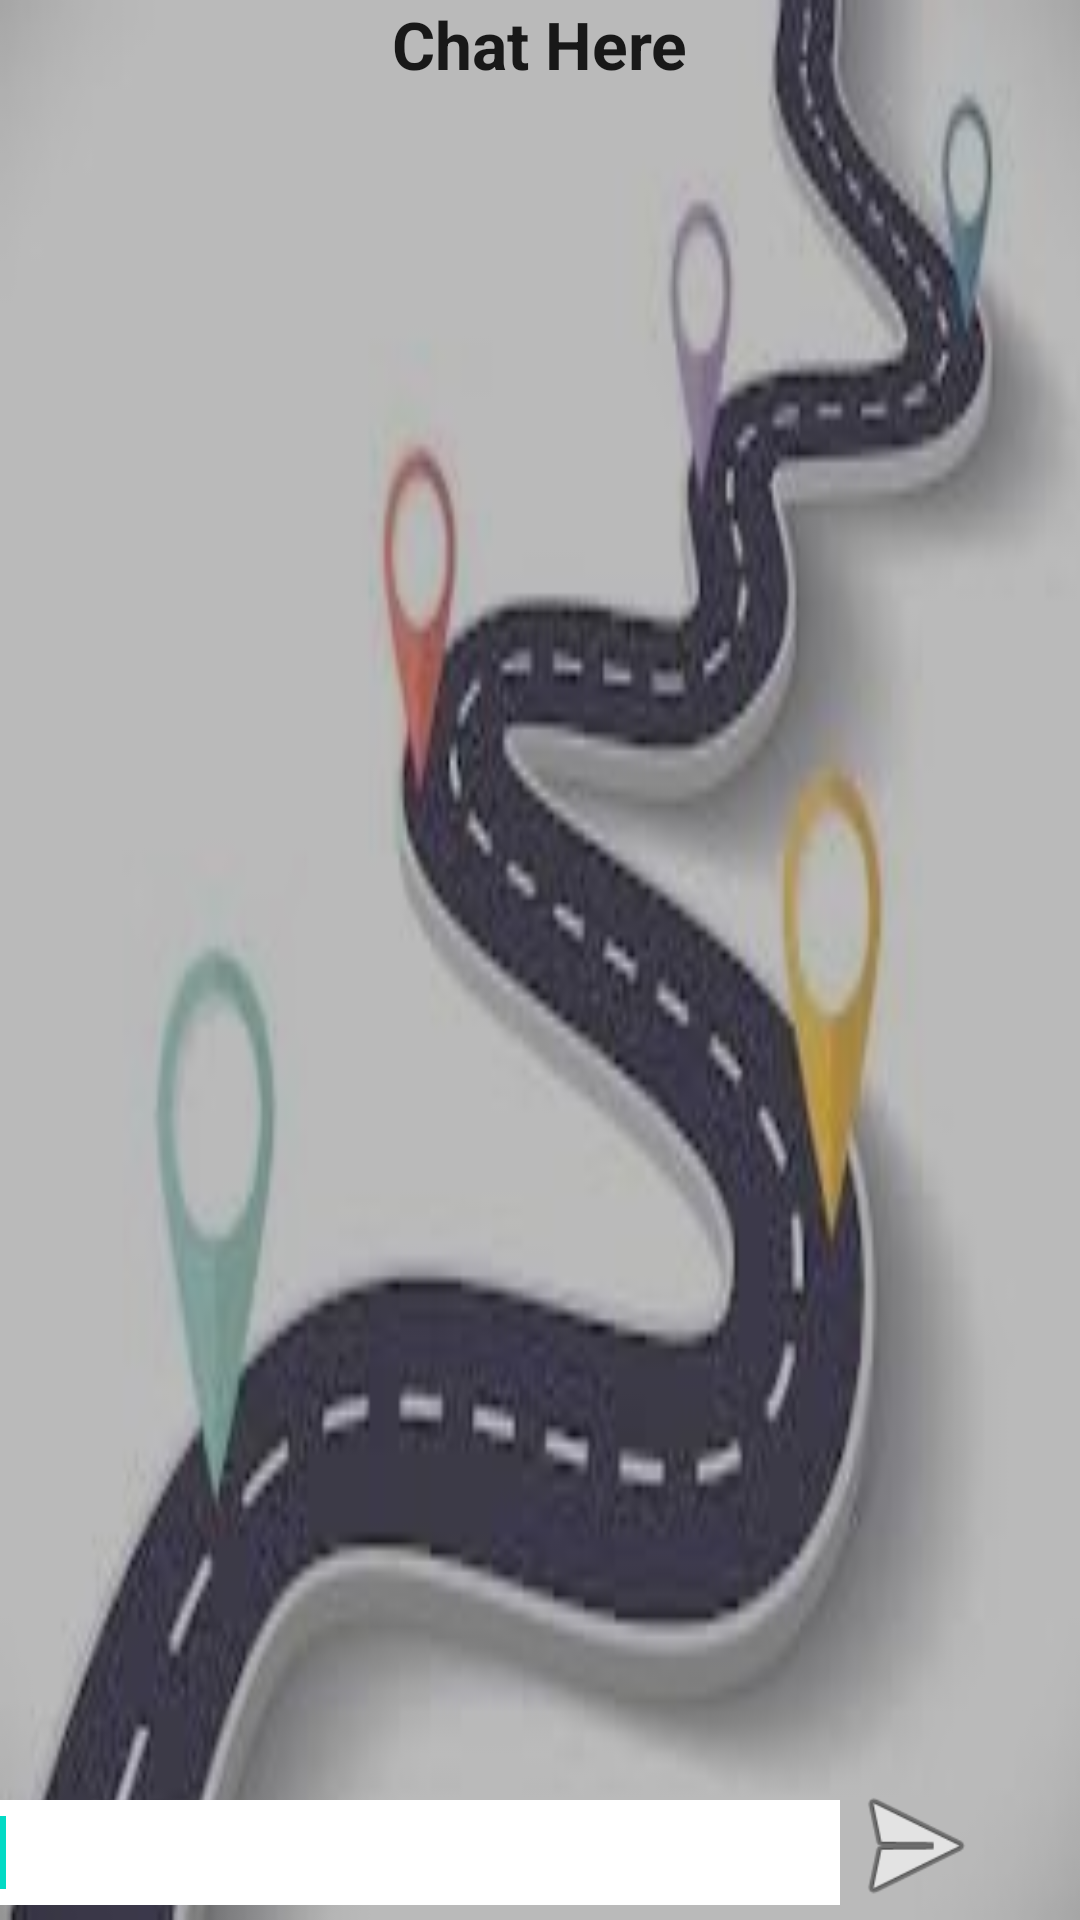

Where to tap for icons on this 1080 x 1920 app screen, as (x,y):
send: (916,1845)
